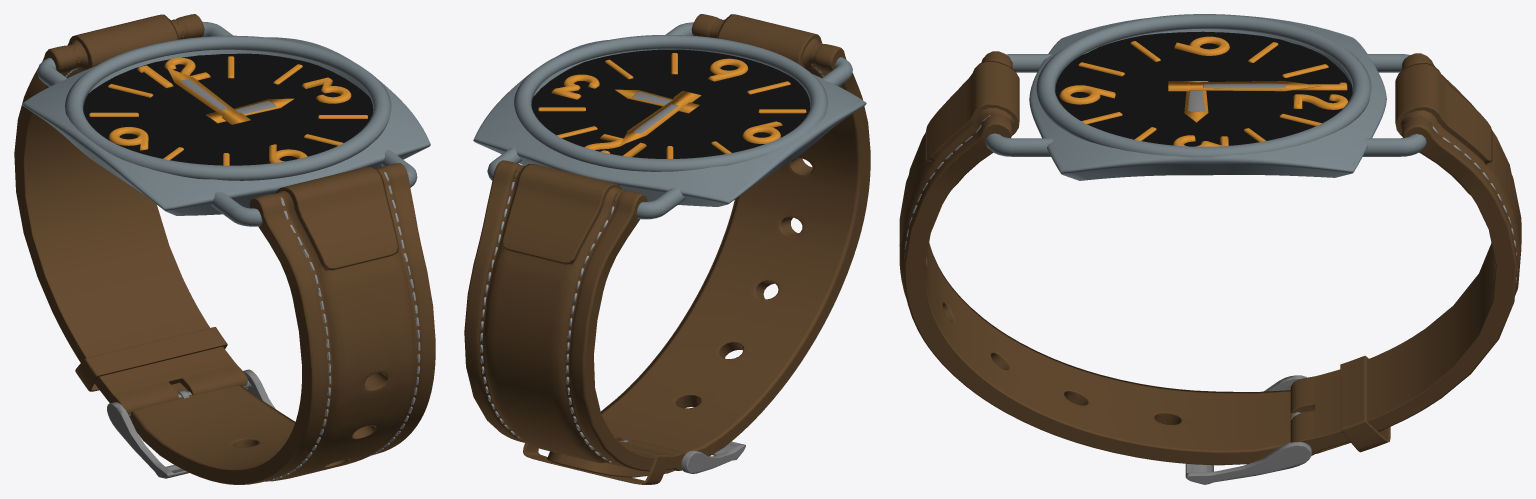
The model's file is watch2.fbx.
The picture shows the model from 3 angles, left to right: view 1: azimuth 30°, elevation 25°; view 2: azimuth 150°, elevation 25°; view 3: azimuth 270°, elevation 25°; orthographic projection. The views are drawn at different scales.
Parts seen in each view (by area): view 1: Object222, Object221, Circle033, Rectangle044, Circle032, Object220, 11800_Watches_body006, Rectangle045, Plane.028, Rectangle046, Object212, Plane.029 (+2 smaller); view 2: Object222, Object221, Circle033, Rectangle044, Circle032, Rectangle046, Object223, Plane.028, Object220, Rectangle045, Plane.029, Object209 (+3 smaller); view 3: Object222, Object221, Circle033, Rectangle044, Circle032, Object220, Rectangle045, Rectangle046, Plane.028, Object212, Object219, Object215 (+1 smaller).
Part boxes in pixels (<box>): Object222: <box>129,163,435,484</box>; Object221: <box>14,14,247,416</box>; Circle033: <box>83,53,373,165</box>; Rectangle044: <box>22,37,430,215</box>; Circle032: <box>65,35,391,180</box>; Object220: <box>107,369,275,478</box>; 11800_Watches_body006: <box>265,172,420,481</box>; Rectangle045: <box>211,150,417,226</box>; Plane.028: <box>167,67,250,124</box>; Rectangle046: <box>37,21,232,86</box>; Object212: <box>137,57,210,88</box>; Plane.029: <box>206,98,293,123</box>; Object222: <box>547,14,870,477</box>; Object221: <box>464,160,686,484</box>; Circle033: <box>531,49,810,158</box>; Rectangle044: <box>473,40,866,206</box>; Circle032: <box>514,34,827,171</box>; Rectangle046: <box>487,147,685,219</box>; Object223: <box>480,182,614,463</box>; Plane.028: <box>620,91,701,145</box>; Object220: <box>620,440,745,473</box>; Rectangle045: <box>666,22,852,86</box>; Plane.029: <box>615,89,699,113</box>; Object209: <box>551,74,599,99</box>; Object222: <box>899,51,1383,465</box>; Object221: <box>1290,53,1521,455</box>; Circle033: <box>1055,31,1352,146</box>; Rectangle044: <box>1029,15,1386,180</box>; Circle032: <box>1036,14,1371,157</box>; Object220: <box>1185,375,1311,484</box>; Rectangle045: <box>985,54,1053,156</box>; Rectangle046: <box>1362,54,1426,156</box>; Plane.028: <box>1168,81,1320,91</box>; Object212: <box>1293,82,1348,109</box>; Object219: <box>1059,85,1115,104</box>; Object215: <box>1174,36,1229,55</box>.
Size of the model in its own units: 152 by 181 by 276.
